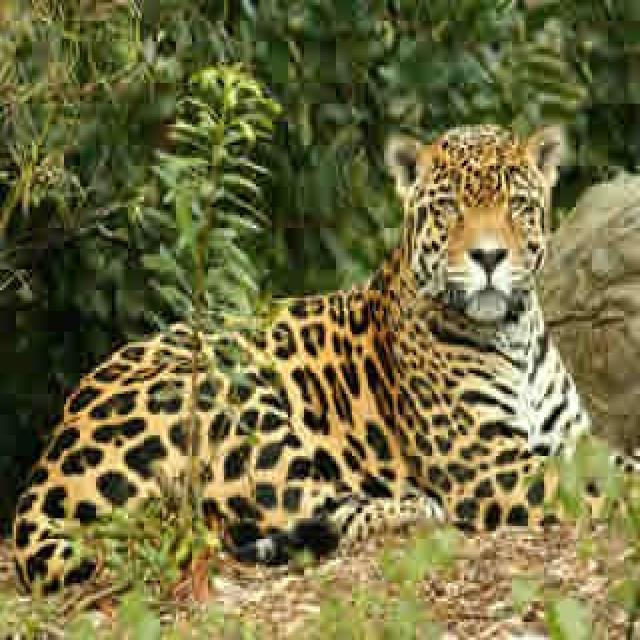Jaguar: (12, 119, 640, 565)
